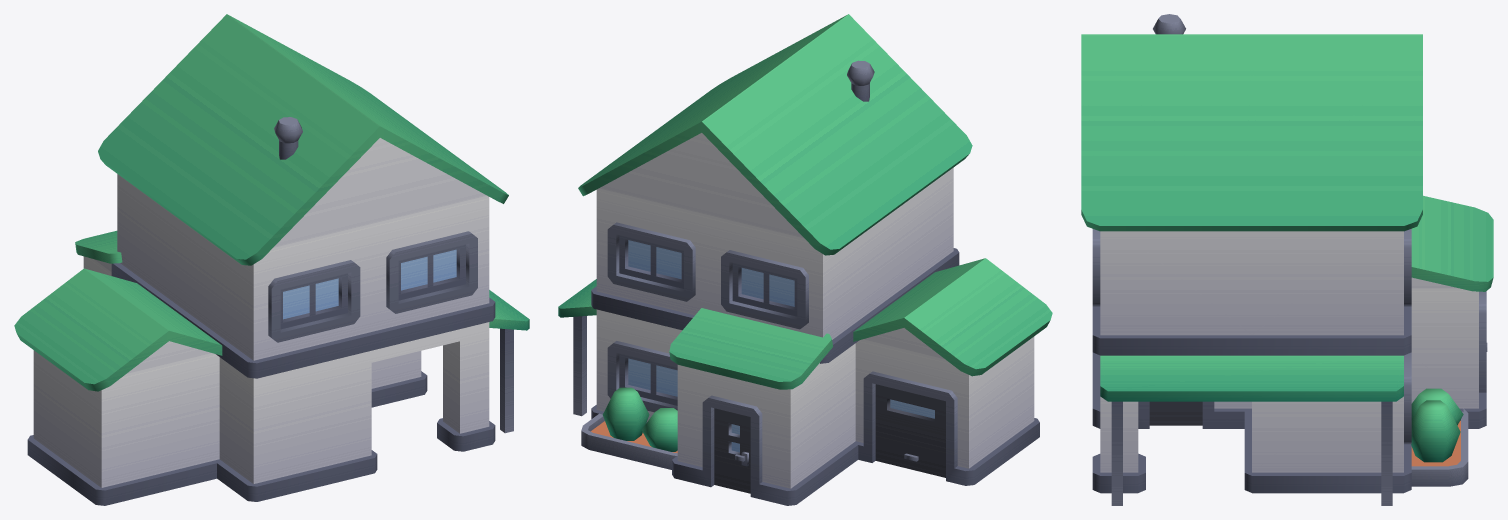
File: house-b.glb
3 renders of one model, left to right at view 1: azimuth 30°, elevation 25°; view 2: azimuth 150°, elevation 25°; view 3: azimuth 270°, elevation 25°, orthographic. The views are drawn at different scales.
Parts seen in each view (by area): view 1: building-type-s; view 2: building-type-s; view 3: building-type-s.
Boxes of the visible parts, left/top/right/bottom form: building-type-s: left=14, top=14, right=529, bottom=505; building-type-s: left=558, top=14, right=1052, bottom=505; building-type-s: left=1081, top=14, right=1493, bottom=505.
Size of the model in its own units: 9.89 by 8 by 7.64.
1 material, 1 textured.
